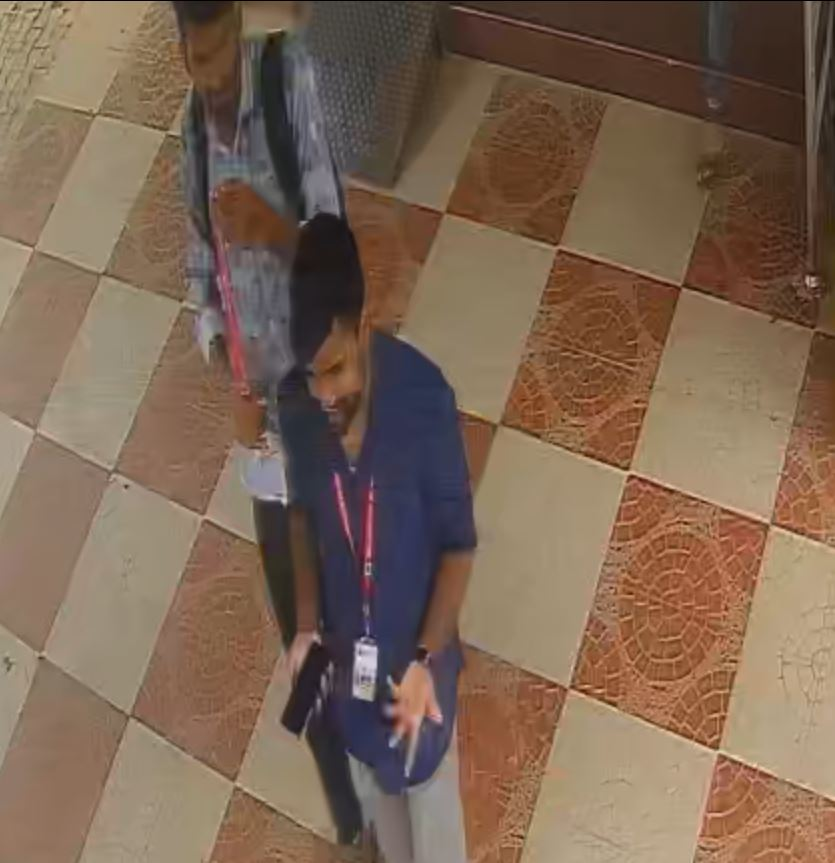intruder: (258, 208, 472, 863), (141, 4, 345, 612)
